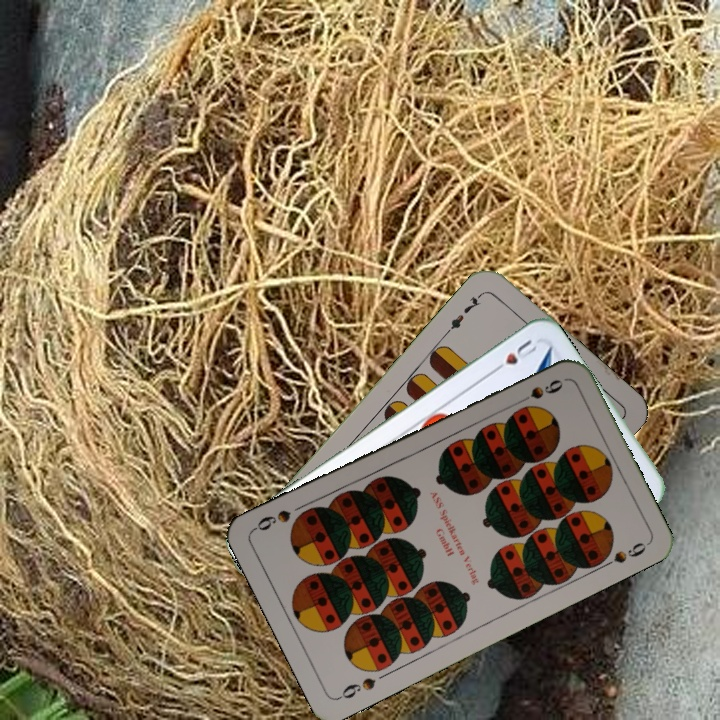E7: (442, 288, 486, 337)
HU: (487, 335, 541, 376)
S9: (511, 375, 566, 408), (334, 673, 379, 702)
